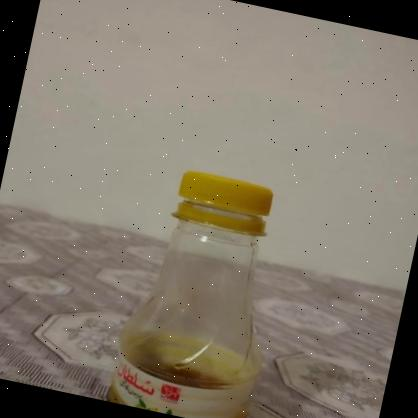bottle: (95, 147, 305, 418)
cap: (160, 161, 276, 243)
label: (100, 352, 254, 418)
